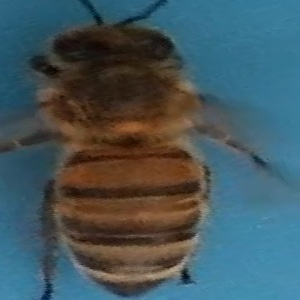bee: (7, 3, 283, 297)
